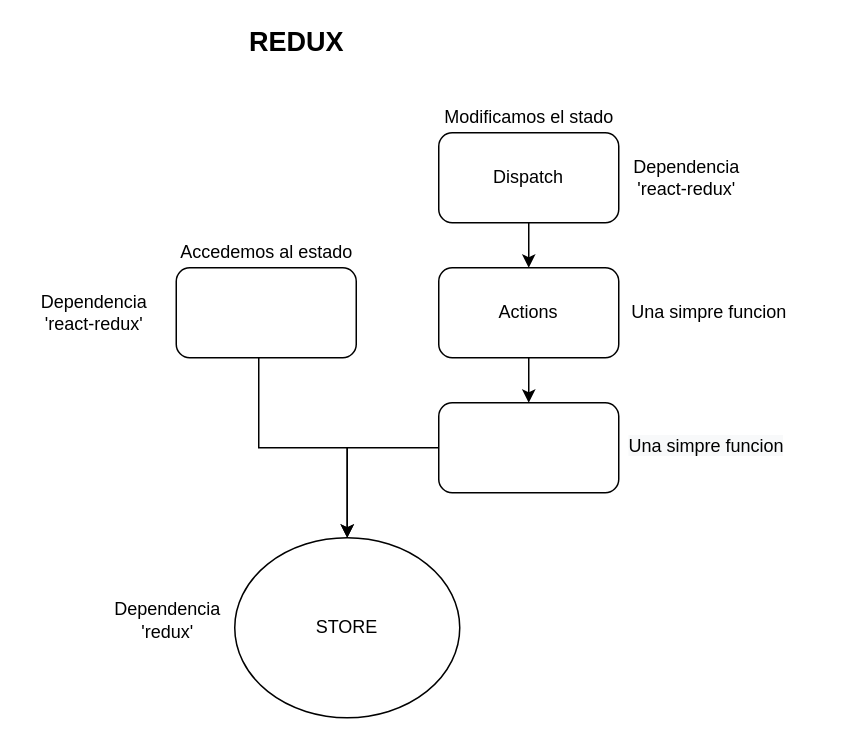
This 846x744 diagram has some shape labels left out. The box of each missing label's shape, as (x1, y1, x2, y2) in pixels:
Reducer: (437, 401, 619, 493)
UseSelector: (175, 266, 356, 358)
